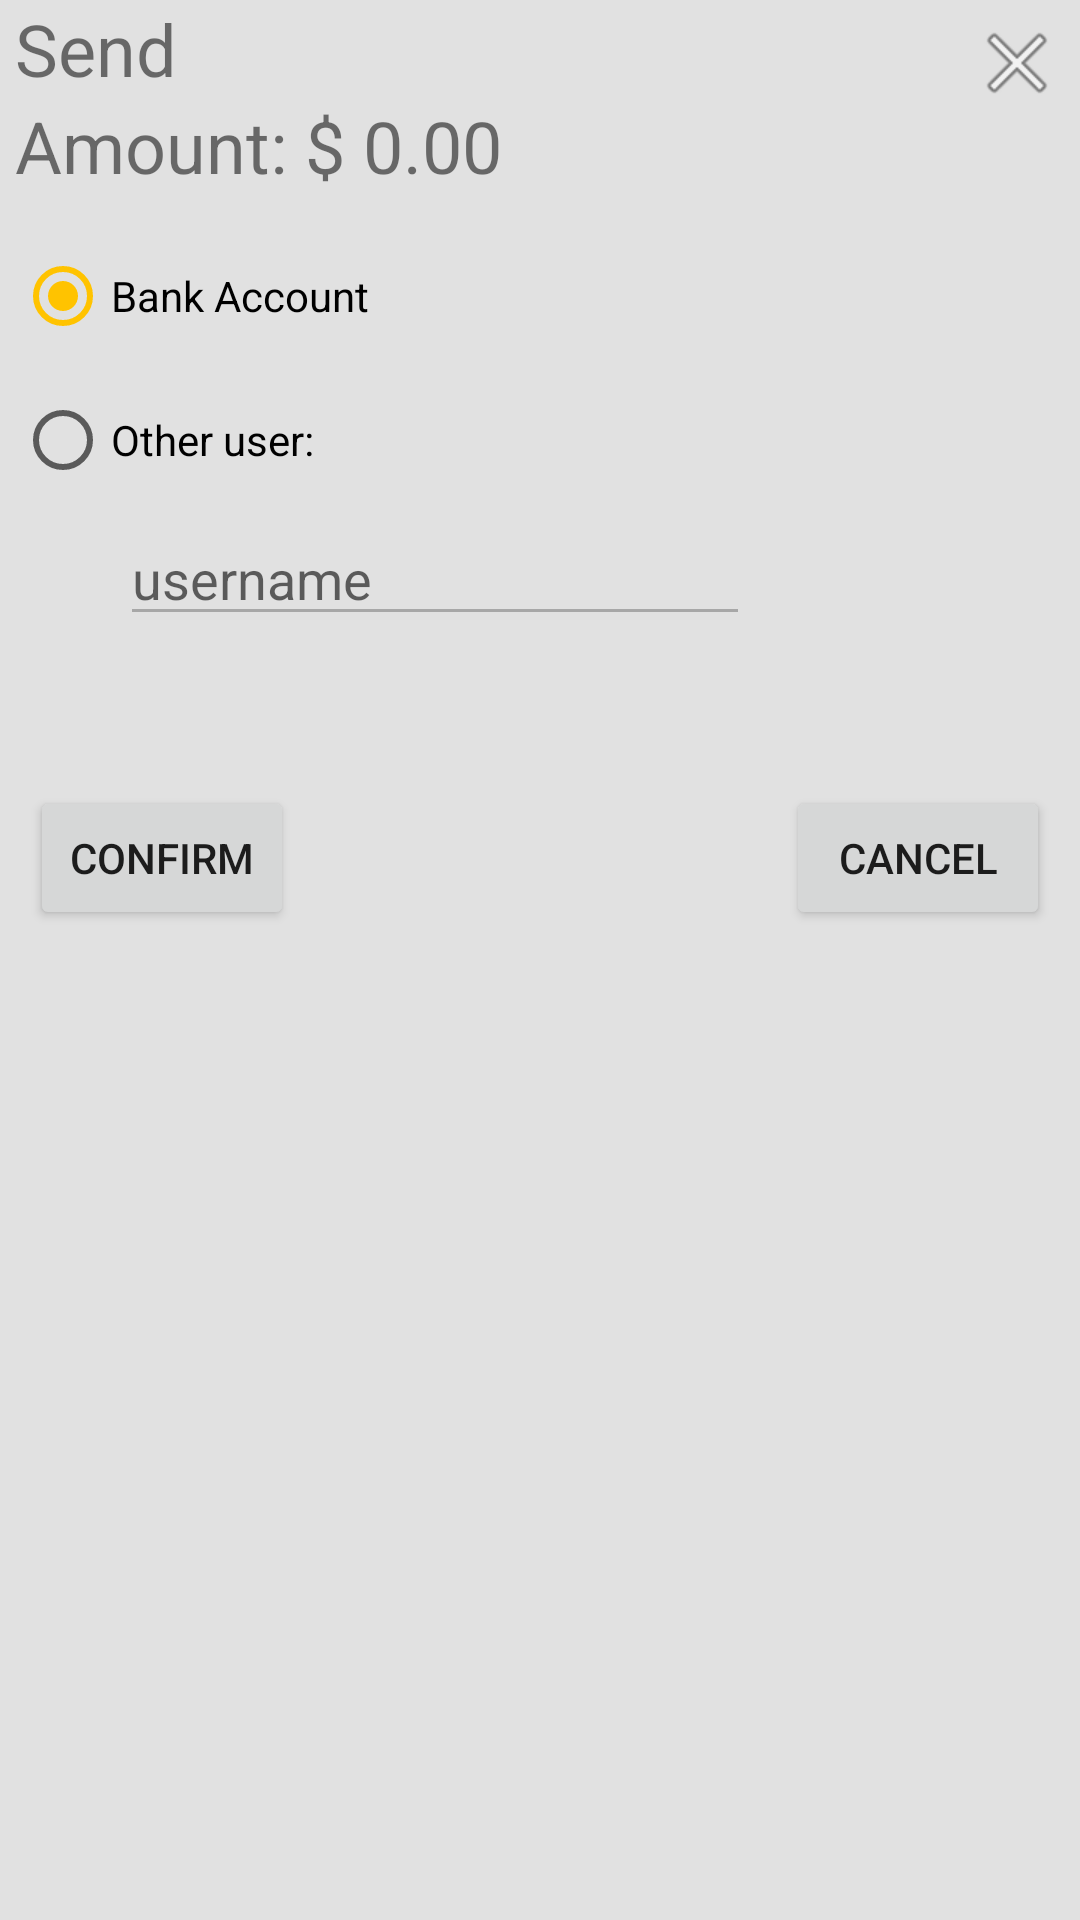

Icon bounding boxes for this 1080 × 1920 phone screenshot, format (left=x1, top=y1, right=x2, bottom=y2):
close clear cancel: (left=987, top=33, right=1047, bottom=93)
